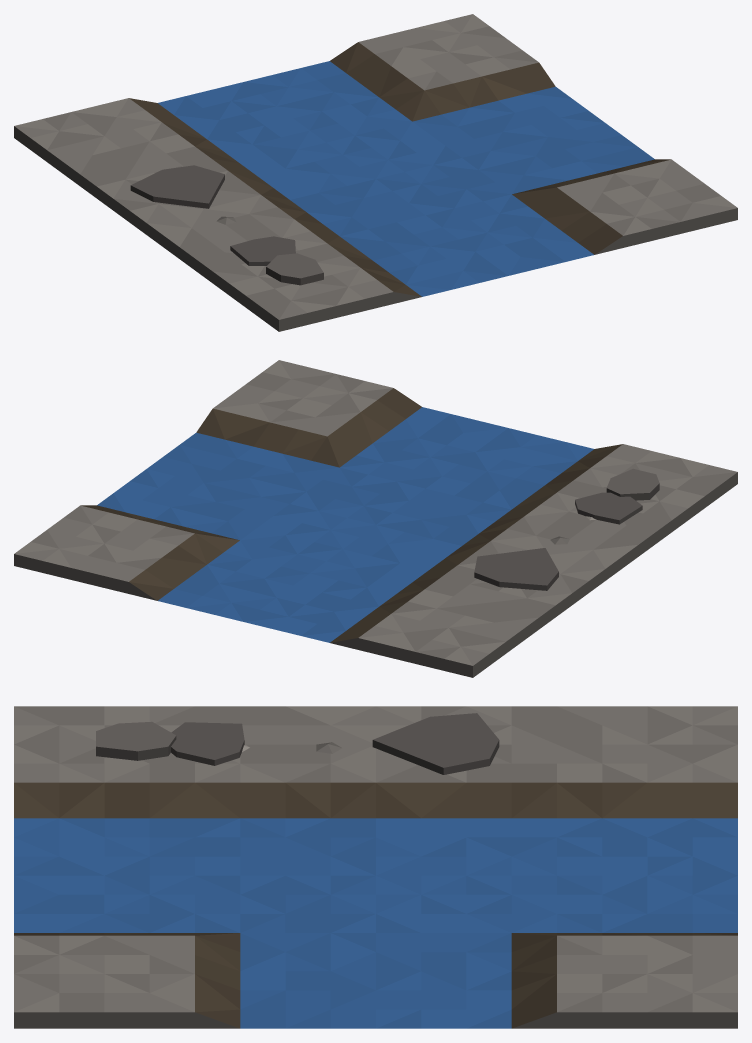
The model's file is river_junction_rock.glb.
3 views of the same model, one above another, from view 1: azimuth 30°, elevation 25°; view 2: azimuth 150°, elevation 25°; view 3: azimuth 270°, elevation 25° (orthographic). The views are drawn at different scales.
Visible parts, largest first — view 1: river_junction_rock; view 2: river_junction_rock; view 3: river_junction_rock.
Boxes of the visible parts, x1=… form: river_junction_rock: x1=14, y1=14, x2=737, y2=331; river_junction_rock: x1=14, y1=360, x2=737, y2=677; river_junction_rock: x1=14, y1=706, x2=737, y2=1028.
Bounding box in the file's own units: 4 × 0.1583 × 4.
